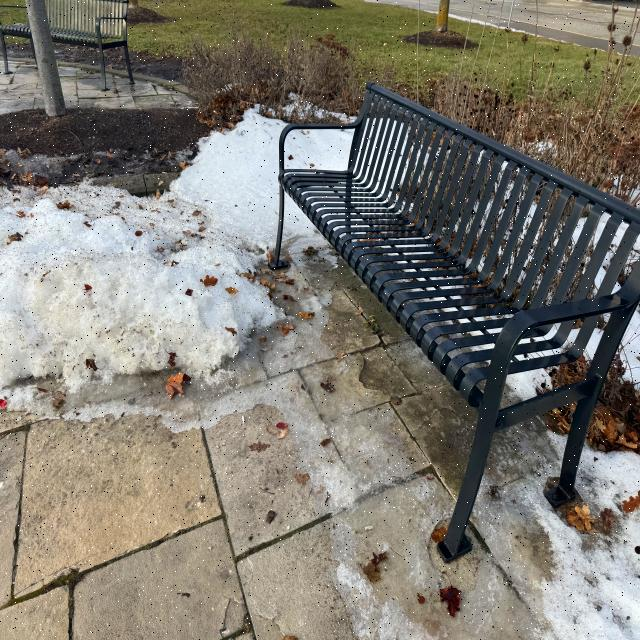Bench: (293, 59, 640, 510), (8, 0, 148, 92)
